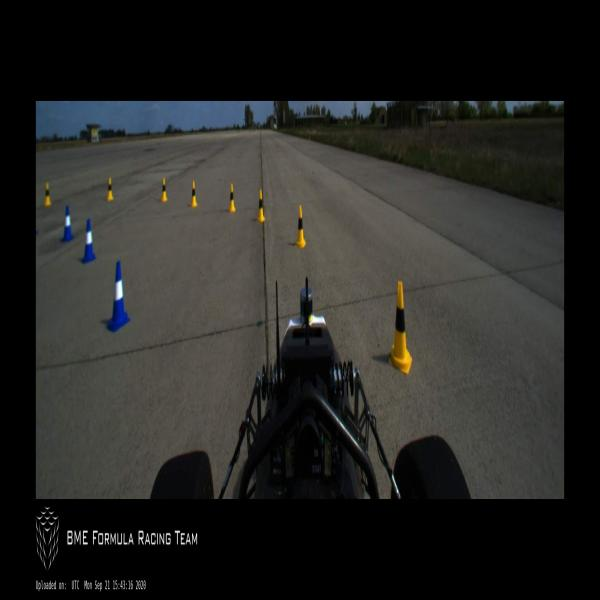blue_cone: (107, 261, 130, 333), (81, 218, 96, 264), (62, 205, 73, 242)
yellow_cone: (389, 282, 412, 374), (295, 205, 306, 248), (256, 189, 264, 222), (228, 183, 236, 212), (190, 180, 197, 208), (106, 177, 113, 201), (44, 182, 51, 206), (161, 178, 167, 204)
